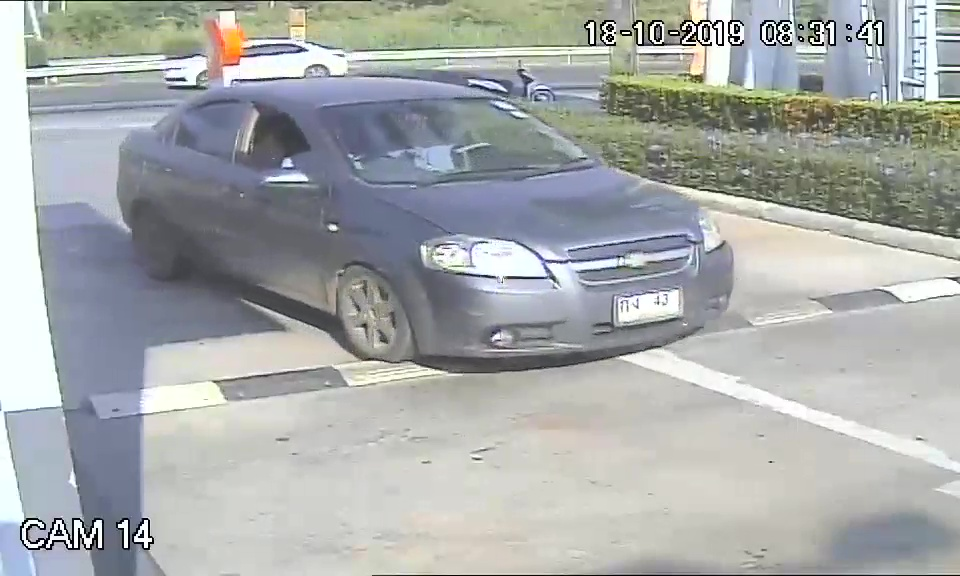sedan: (112, 74, 740, 365)
